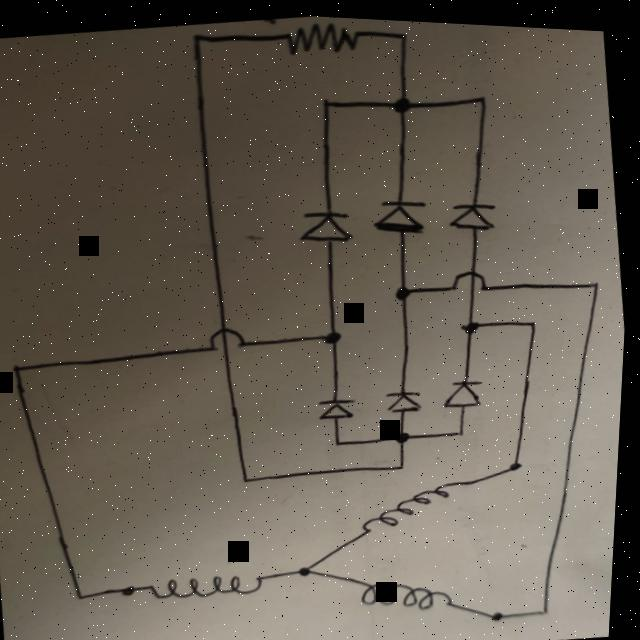crossover: (207, 321, 253, 351), (451, 262, 494, 291)
diode: (374, 188, 434, 237), (299, 199, 361, 243), (451, 193, 501, 230), (445, 371, 489, 405), (388, 381, 432, 411), (321, 390, 361, 420)
inductor: (365, 471, 473, 527), (155, 565, 275, 604), (364, 568, 459, 613)
junction: (390, 86, 416, 112), (389, 19, 415, 43), (394, 276, 420, 299), (315, 88, 342, 110), (320, 323, 349, 343), (471, 84, 494, 104), (187, 26, 210, 45), (9, 358, 33, 376), (394, 424, 418, 441), (124, 579, 145, 598), (588, 268, 609, 286), (467, 311, 486, 330), (300, 559, 319, 575), (513, 452, 533, 466), (242, 469, 260, 483), (493, 603, 512, 616), (528, 310, 543, 325), (544, 598, 559, 612), (398, 454, 413, 468), (80, 588, 96, 601), (457, 420, 472, 433), (334, 432, 350, 444)
resistor: (282, 12, 369, 56)
